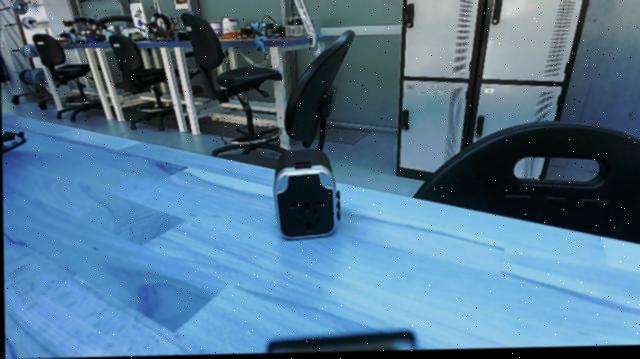adapter: (266, 148, 340, 245)
